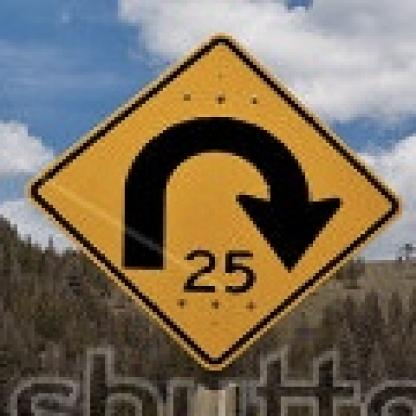U-Turn: (27, 30, 401, 369)
